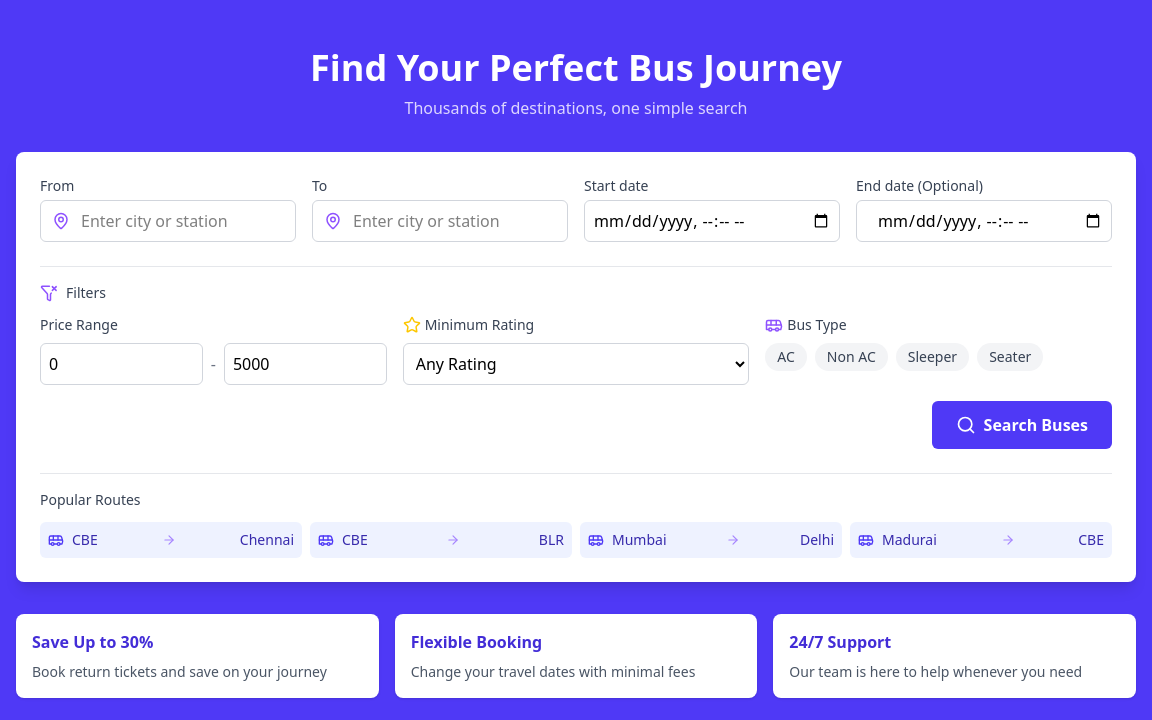
it: BusSearch Component › fills source and destination when a popular route is clicked
Click the button "CBE Chennai": (171, 540) [40,522,302,558]
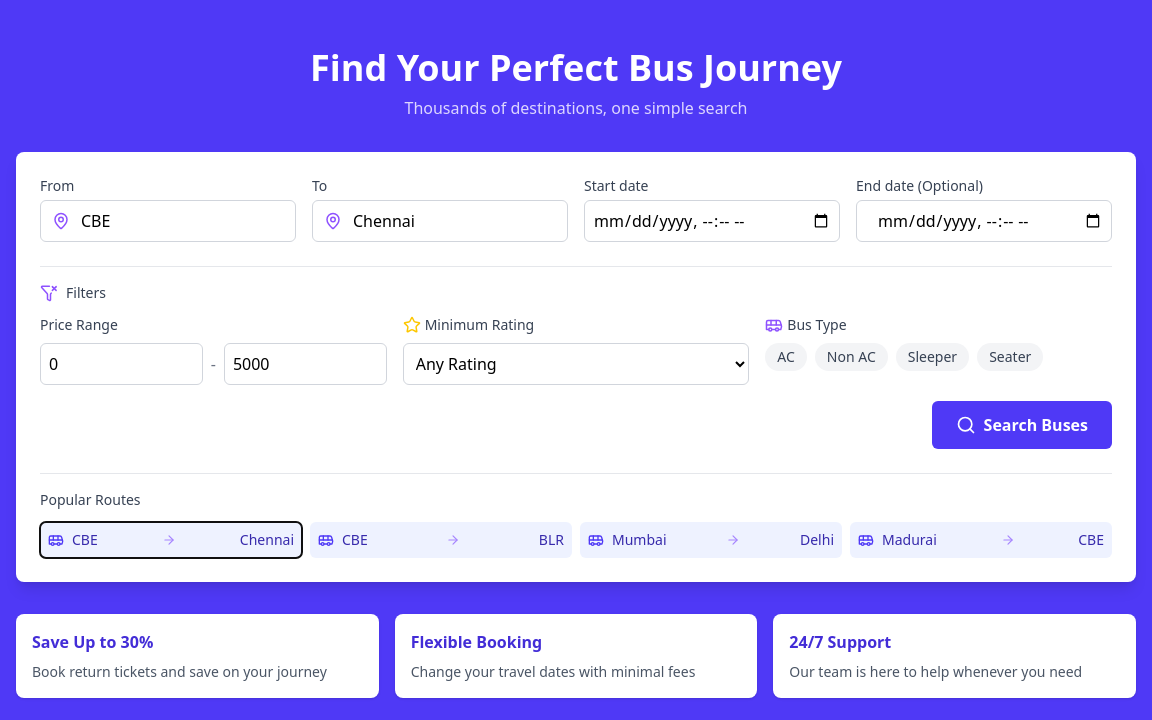
Expected: the field with placeholder "Enter city or station" holds "CBE", [40,200,296,242]
Expected: the field with placeholder "Enter city or station" holds "Chennai", [312,200,568,242]
